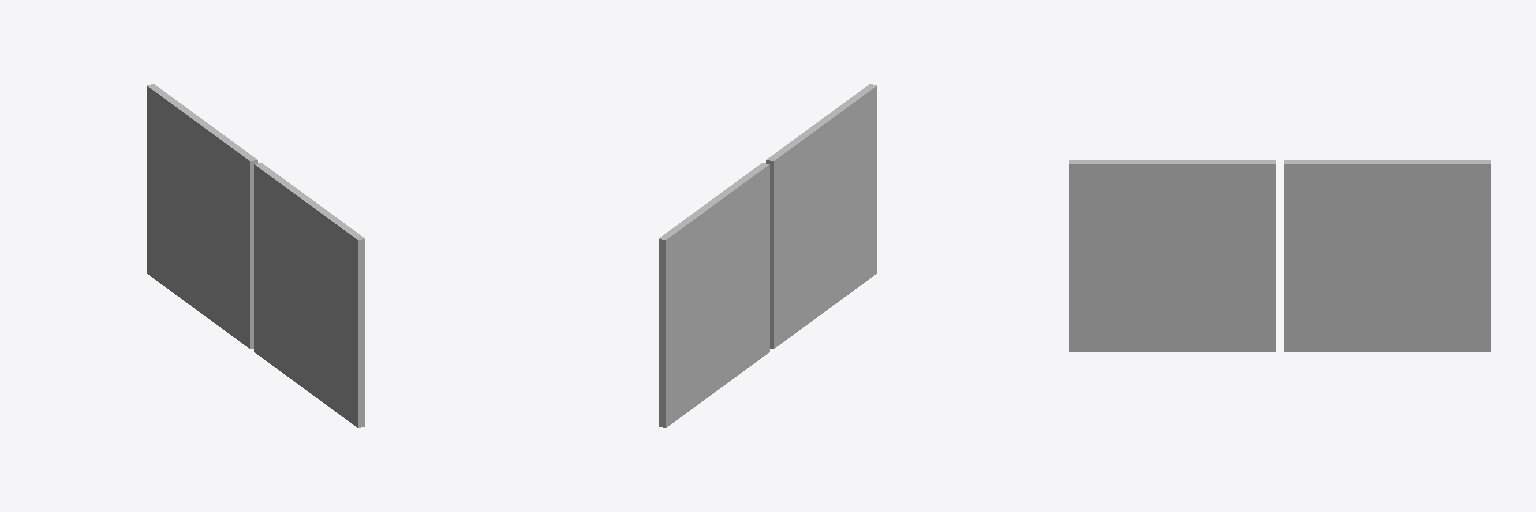
3 views of the same model, side by side, from view 1: azimuth 30°, elevation 25°; view 2: azimuth 150°, elevation 25°; view 3: azimuth 270°, elevation 25° (orthographic).
Parts seen in each view (by area): view 1: PC246_Cube.249, PC245_Cube.248; view 2: PC245_Cube.248, PC246_Cube.249; view 3: PC245_Cube.248, PC246_Cube.249.
Part boxes in pixels (x1,y1,x2,y2): PC246_Cube.249: (254,163,364,427); PC245_Cube.248: (147,84,257,348); PC245_Cube.248: (659,163,769,427); PC246_Cube.249: (766,84,876,348); PC245_Cube.248: (1284,160,1490,351); PC246_Cube.249: (1069,160,1275,351).
Size of the model in its own units: 0.4 by 10 by 20.4.